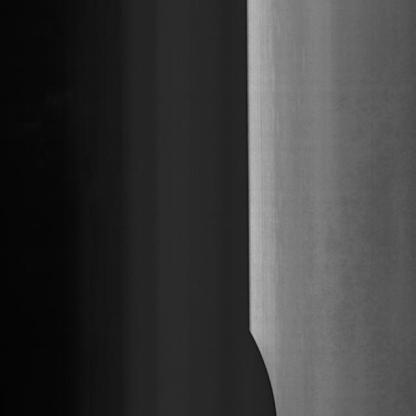crescent_gap: (244, 322, 282, 416)
